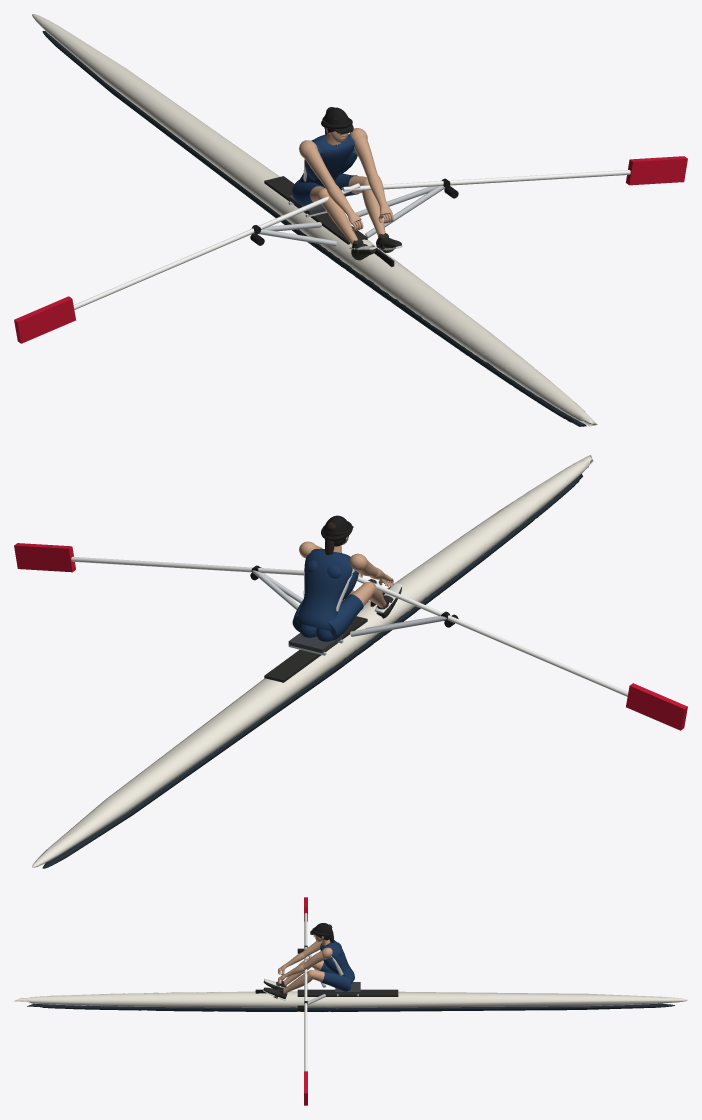
The model's file is scull-male.glb.
3 renders of one model, top to bottom at view 1: azimuth 30°, elevation 25°; view 2: azimuth 150°, elevation 25°; view 3: azimuth 270°, elevation 25°, orthographic. The views are drawn at different scales.
Parts seen in each view (by area): view 1: Hull, Hull_Underside, LeftOar_Blade, LeftOar_Shaft, RightOar_Blade, RightOar_Shaft, Torso_Spine, Cockpit, LeftArm_Upper, RightArm_Upper, LeftShin; view 2: Hull, Hull_Underside, Torso_Spine, LeftOar_Blade, LeftOar_Shaft, RightOar_Blade, RightOar_Shaft, Cockpit, LeftThigh; view 3: Hull, Hull_Underside, Torso_Spine, Cockpit, RightOar_Shaft, RightThigh.
Boxes of the visible parts, x1,y1,x2,y2 form: Hull: (32, 14, 597, 426); Hull_Underside: (42, 31, 586, 426); LeftOar_Blade: (14, 296, 75, 343); LeftOar_Shaft: (73, 183, 360, 309); RightOar_Blade: (626, 156, 687, 185); RightOar_Shaft: (341, 170, 630, 191); Torso_Spine: (299, 134, 357, 188); Cockpit: (264, 176, 367, 244); LeftArm_Upper: (299, 140, 335, 189); RightArm_Upper: (349, 128, 377, 178); LeftShin: (318, 192, 357, 245); Hull: (32, 455, 593, 867); Hull_Underside: (42, 473, 582, 868); Torso_Spine: (296, 548, 358, 641); LeftOar_Blade: (626, 683, 687, 730); LeftOar_Shaft: (357, 577, 628, 696); RightOar_Blade: (14, 543, 75, 572); RightOar_Shaft: (71, 556, 360, 578); Cockpit: (264, 616, 367, 682); LeftThigh: (327, 594, 363, 640); Hull: (14, 991, 687, 1008); Hull_Underside: (27, 1003, 674, 1011); Torso_Spine: (320, 940, 354, 990); Cockpit: (297, 989, 398, 996); RightOar_Shaft: (304, 960, 307, 1071); RightThigh: (321, 971, 350, 991).
Size of the model in its own units: 5.53 by 1.14 by 8.03.
